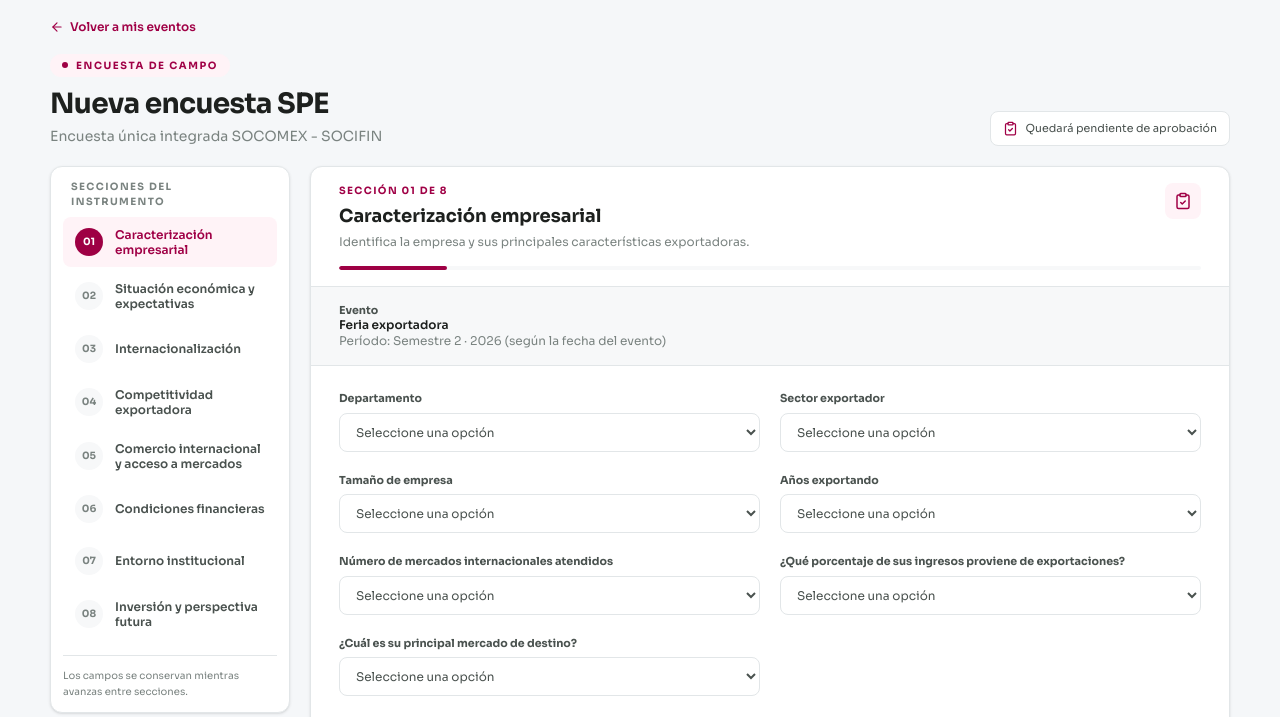
Test: EncuestaSpePage (US66) › muestra el evento y su período, y envía la encuesta con eventId y sin período
The width and height of the screenshot is (1280, 717).
Expected: the text "Feria exportadora" is shown, [339,318,448,332]
Expected: the text "Semestre 2 · 2026" is shown, [311,287,1229,366]
Click the button "08 Inversión y perspectiva futura": point(170, 614) [63,589,277,639]
(page scrolled)
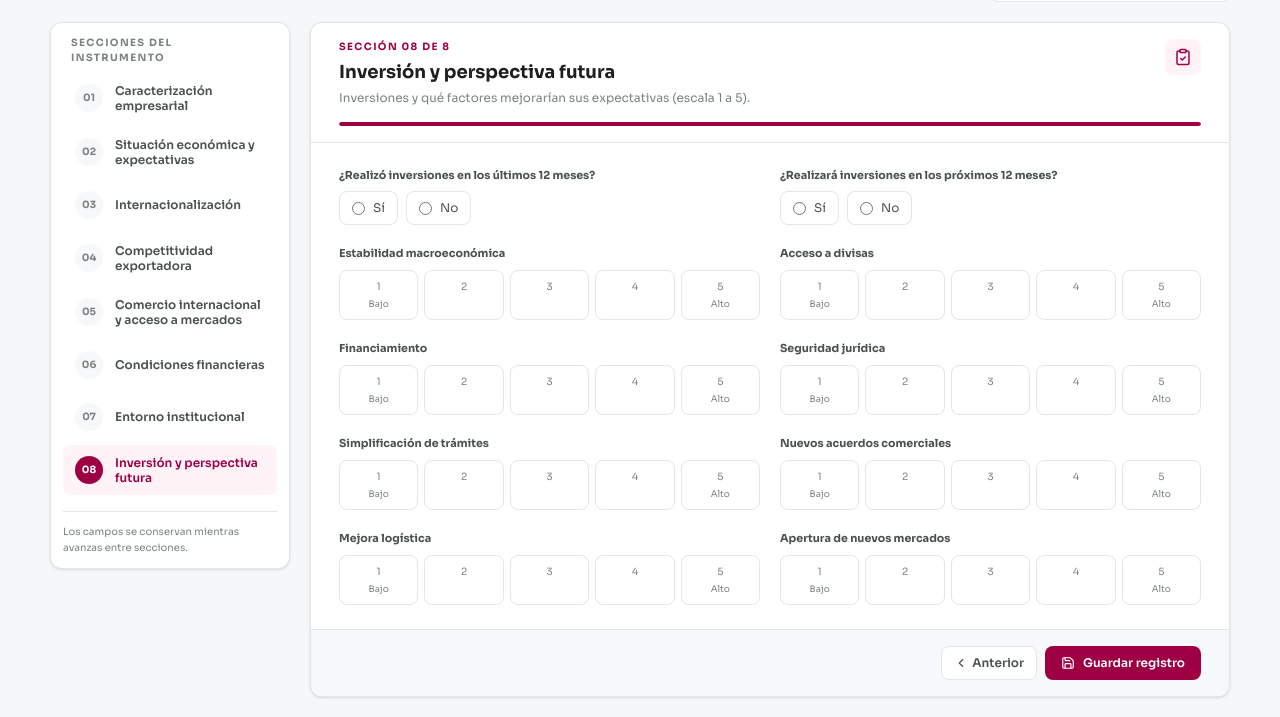
Click the button "Guardar registro": point(1123, 663) [1045,646,1201,680]
(page scrolled)
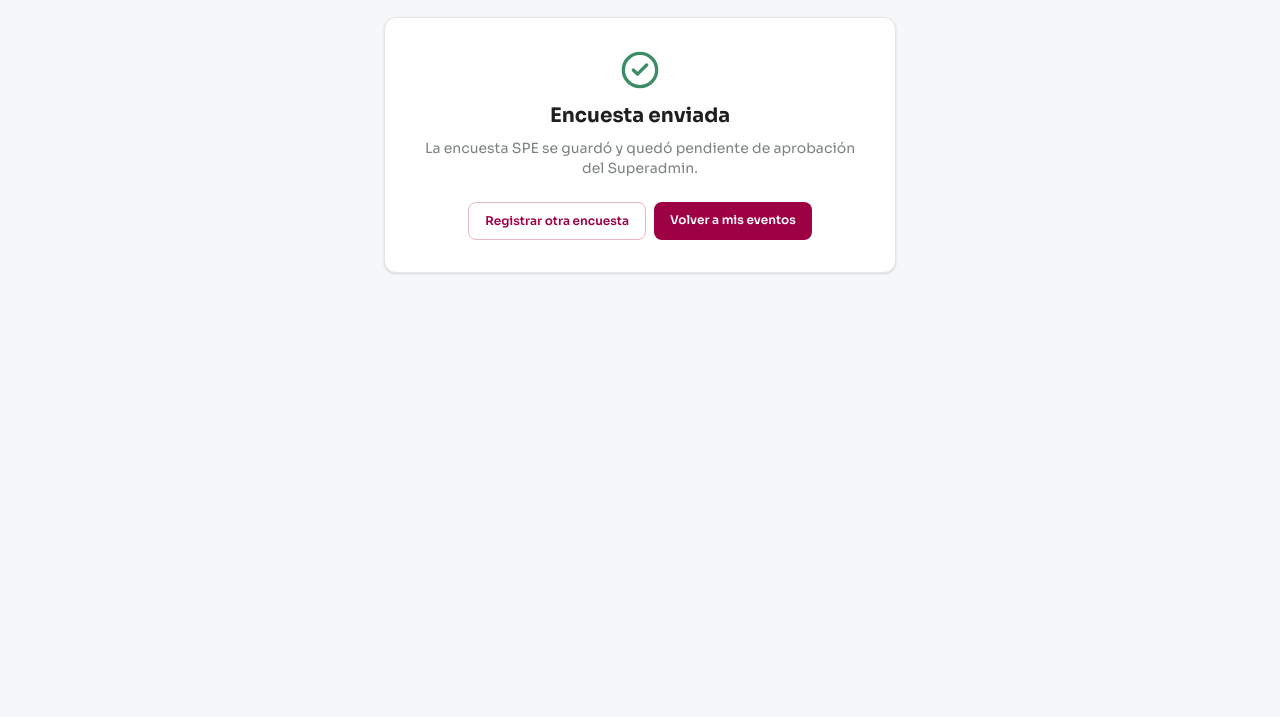
Expected: the heading "Encuesta enviada" is shown, [550,103,730,128]
